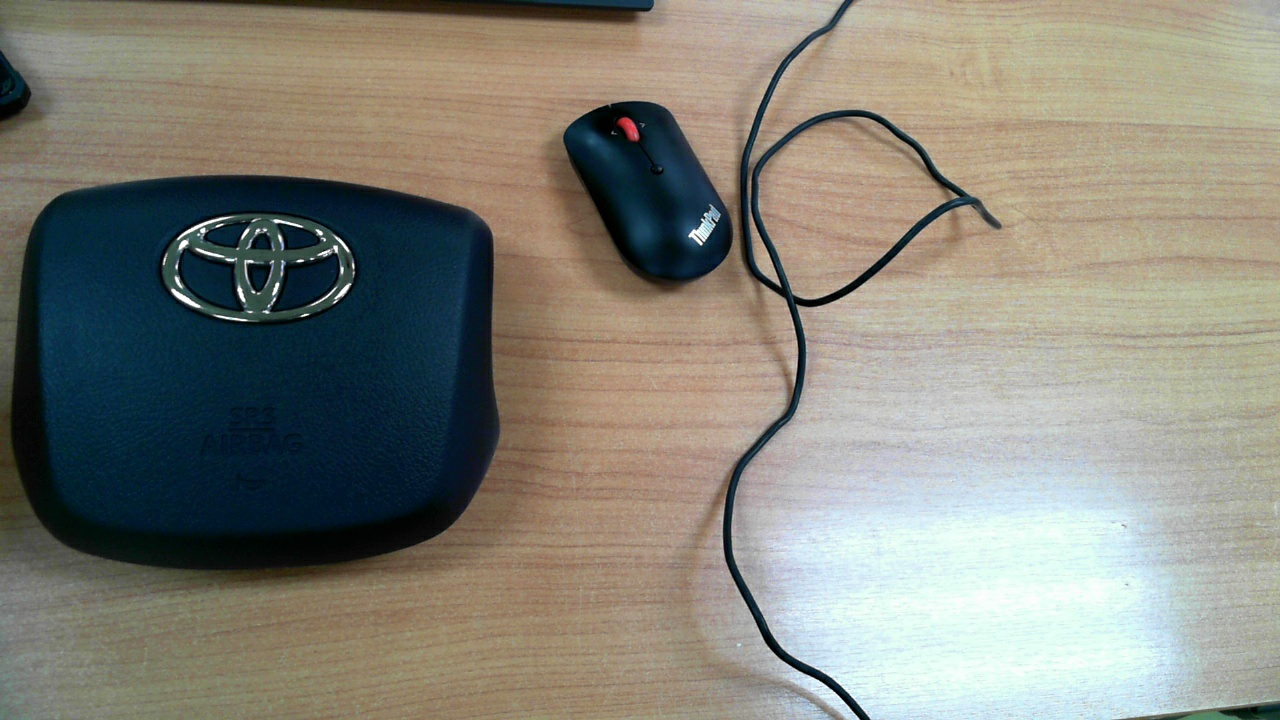Airbag: (0, 140, 496, 608)
